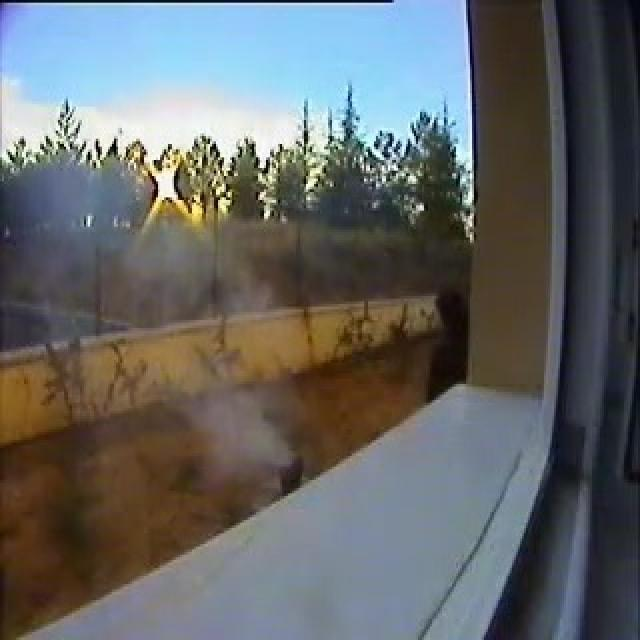smoke: (198, 365, 296, 465)
